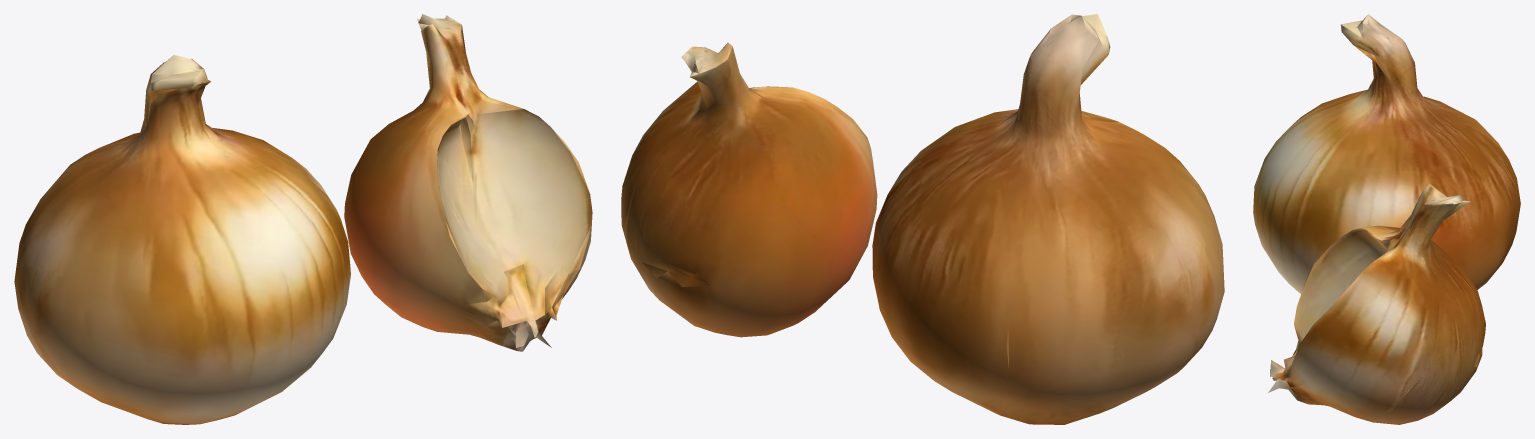
Rendered from onion.glb.
The picture shows the model from 3 angles, left to right: view 1: azimuth 30°, elevation 25°; view 2: azimuth 150°, elevation 25°; view 3: azimuth 270°, elevation 25°; orthographic projection. The views are drawn at different scales.
Parts seen in each view (by area): view 1: model; view 2: model; view 3: model.
Boxes of the visible parts, x1=… form: model: x1=14, y1=14, x2=592, y2=424; model: x1=621, y1=14, x2=1224, y2=424; model: x1=1253, y1=14, x2=1520, y2=424.
Bounding box in the file's own units: 1.89 × 1.29 × 1.03.
Materials: 1 (1 with a texture image).
